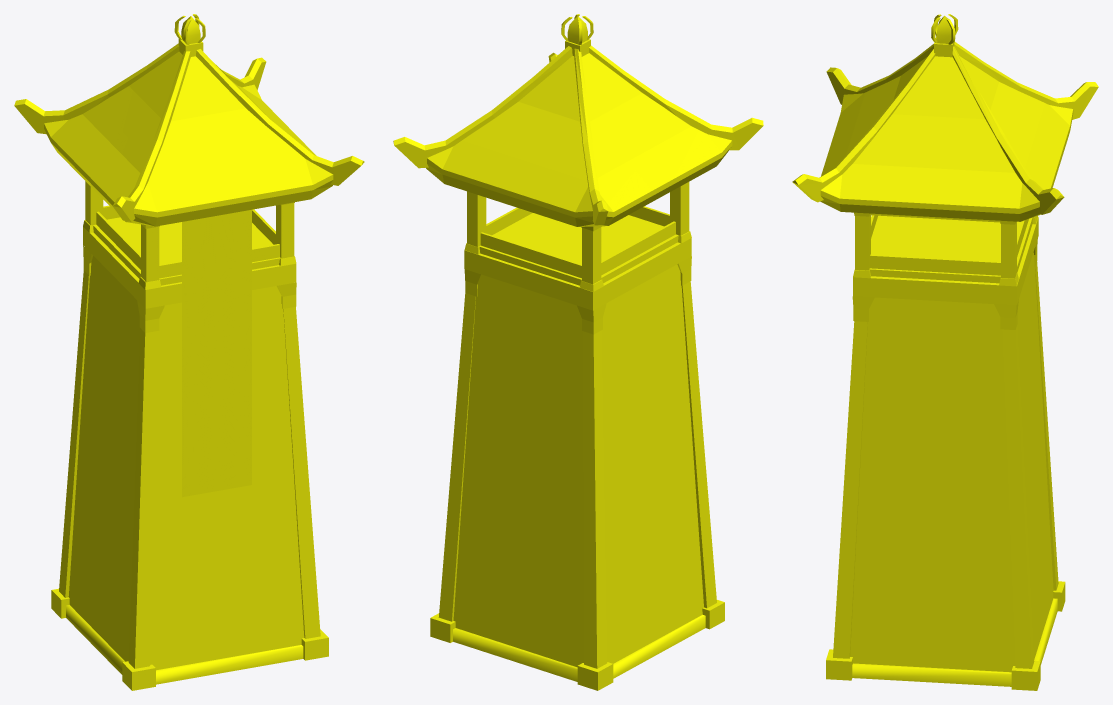
The model's file is 1st_pillar_001.glb.
The picture shows the model from 3 angles, left to right: view 1: azimuth 30°, elevation 25°; view 2: azimuth 150°, elevation 25°; view 3: azimuth 270°, elevation 25°; orthographic projection. The views are drawn at different scales.
Visible parts, largest first — view 1: 12T_01; view 2: 12T_01; view 3: 12T_01.
Part boxes in pixels (box(x1,y1,x2,y2)): 12T_01: box(14, 14, 364, 690); 12T_01: box(393, 14, 763, 690); 12T_01: box(792, 14, 1098, 690).
Bounding box in the file's own units: 5.49 × 12.29 × 5.47.
3 materials, 3 textured.
